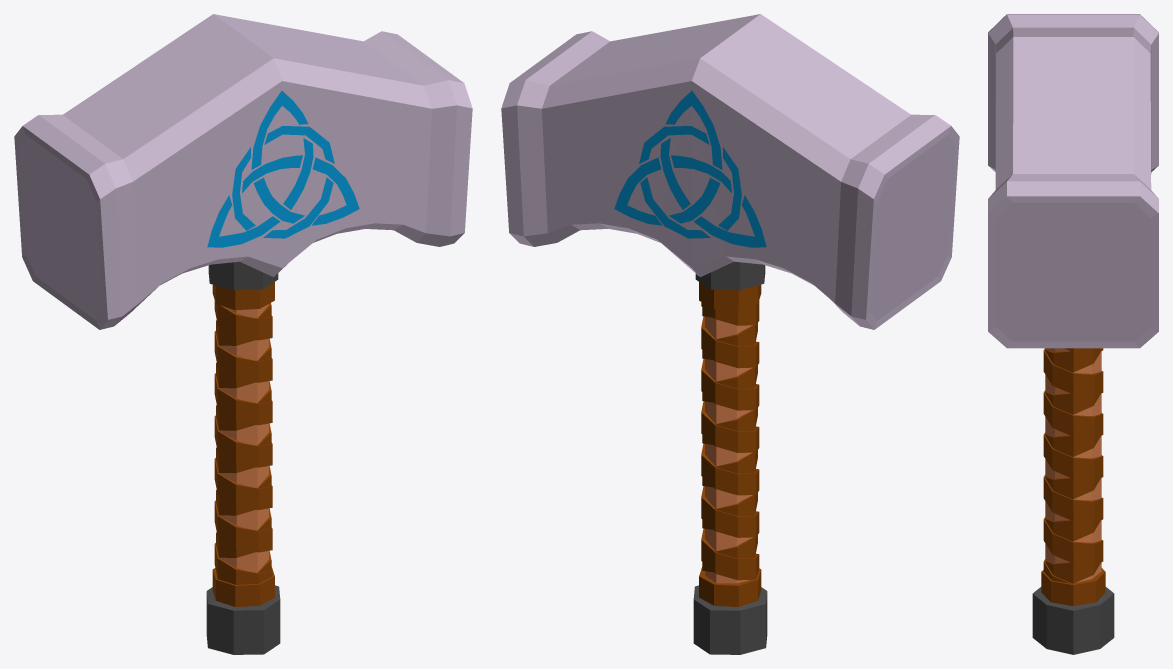
The model's file is thor_hammer_1.fbx.
3 views of the same model, side by side, from view 1: azimuth 30°, elevation 25°; view 2: azimuth 150°, elevation 25°; view 3: azimuth 270°, elevation 25° (orthographic).
Parts seen in each view (by area): view 1: Hammer 3, handle 3, Circle.003; view 2: Hammer 3, handle 3, Circle.003; view 3: Hammer 3, handle 3.
Part boxes in pixels (<box>): Hammer 3: <box>14,14,472,329</box>; handle 3: <box>206,261,280,654</box>; Circle.003: <box>207,91,359,247</box>; Hammer 3: <box>501,14,959,329</box>; handle 3: <box>693,261,767,654</box>; Circle.003: <box>614,91,766,247</box>; Hammer 3: <box>988,14,1158,348</box>; handle 3: <box>1032,348,1114,654</box>.
Size of the model in its own units: 33.5 by 51.5 by 13.28.
